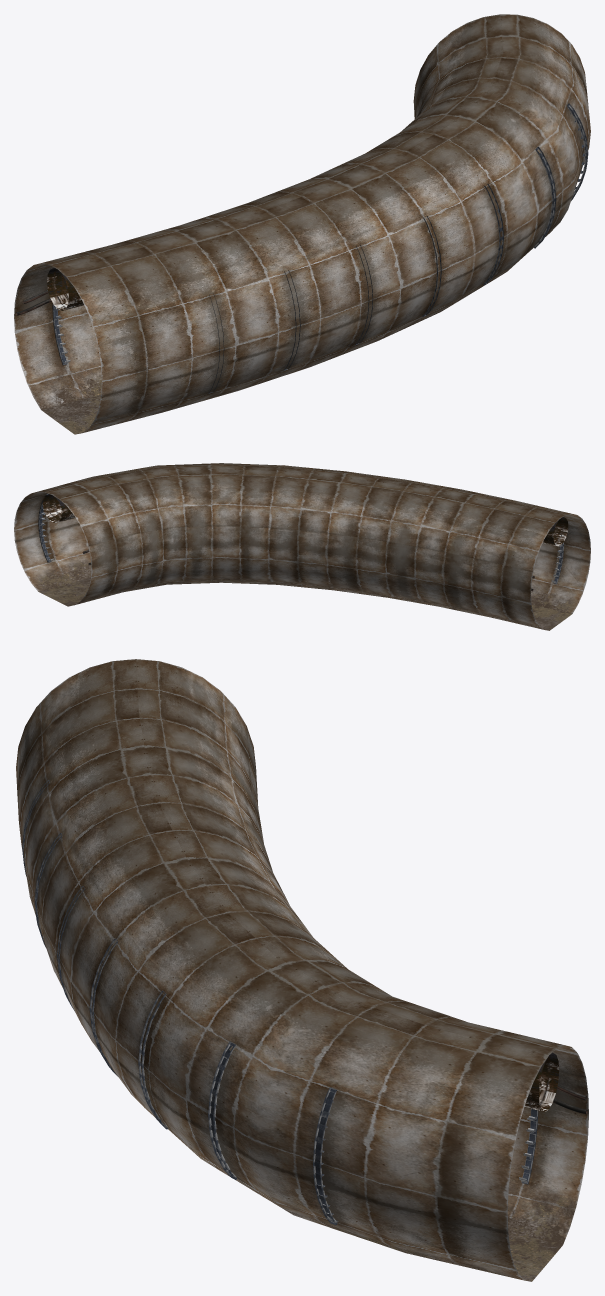
The model's file is glbfile.gltf.
The picture shows the model from 3 angles, top to bottom: view 1: azimuth 30°, elevation 25°; view 2: azimuth 150°, elevation 25°; view 3: azimuth 270°, elevation 25°; orthographic projection. The views are drawn at different scales.
Visible parts, largest first — view 1: Tunnel.004; view 2: Tunnel.004; view 3: Tunnel.004.
Part boxes in pixels (left/top/right/bottom): Tunnel.004: left=14, top=14, right=590, bottom=434; Tunnel.004: left=14, top=463, right=590, bottom=630; Tunnel.004: left=16, top=659, right=588, bottom=1281.
Bounding box in the file's own units: 3494 × 774 × 1909.
Materials: 3 (3 with a texture image).
